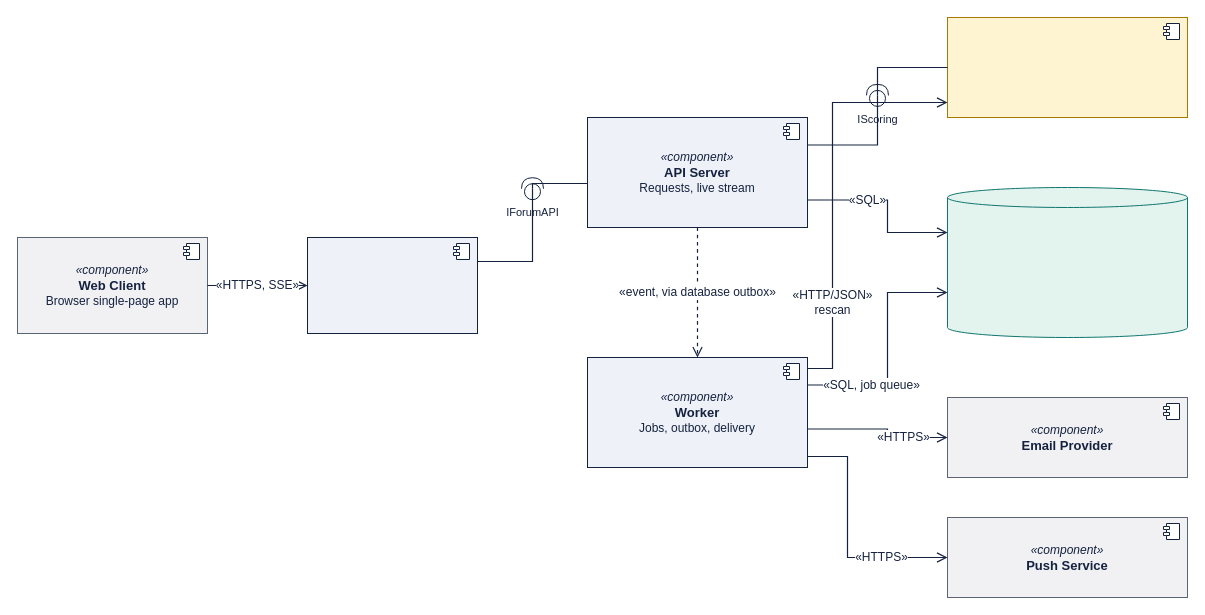
Image size: 1205x615. Some labels were removed from this diagram. Each missing label, with the box of its shape:
Forum Database «shared data» content, jobs, outbox, audit: (946, 186, 1188, 338)
«component» Reverse Proxy TLS termination: (306, 236, 478, 334)
«component» Scoring Service Toxicity model: (946, 16, 1188, 118)
